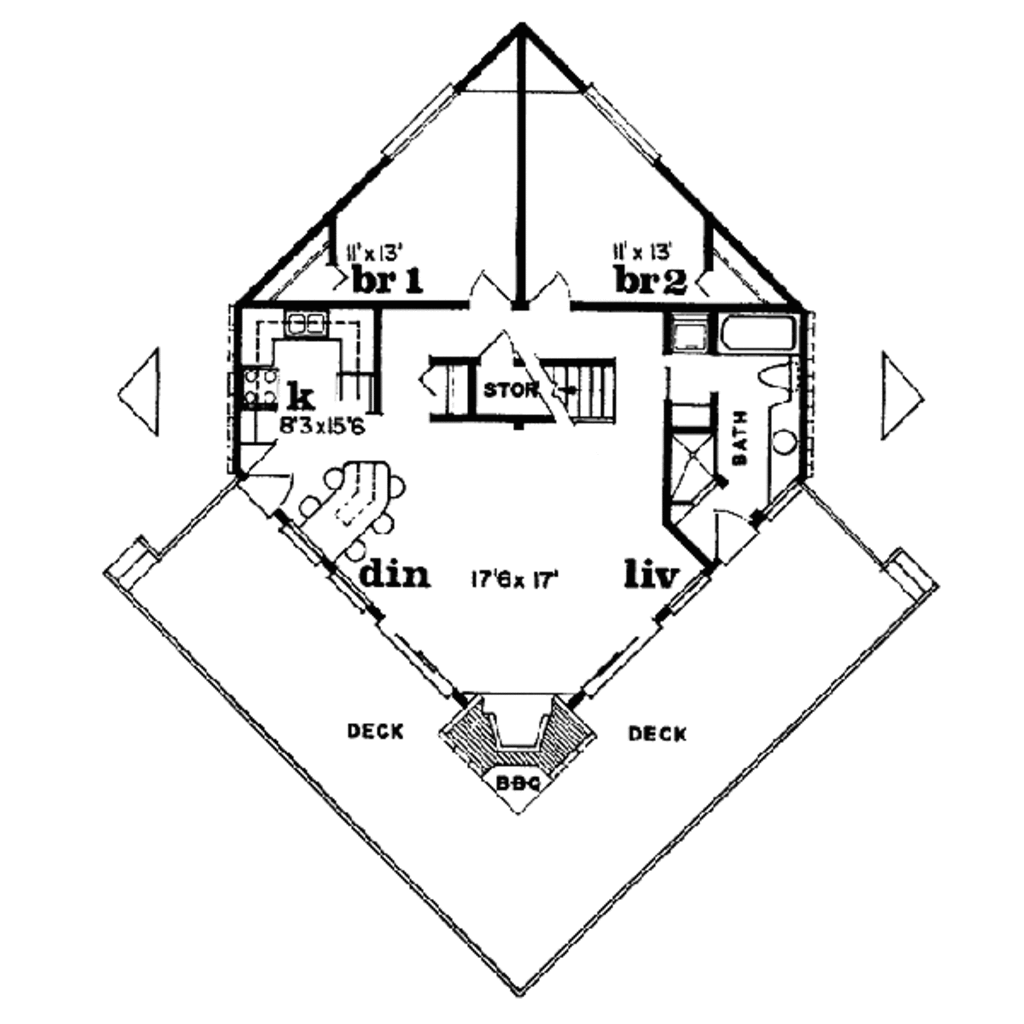door: (698, 500, 752, 566), (520, 263, 577, 314), (242, 468, 301, 514), (463, 265, 514, 316), (231, 436, 274, 471)
large_sink: (752, 354, 814, 397)
small_sink: (768, 422, 803, 474)
stairs: (439, 349, 620, 438)
tub: (720, 319, 799, 351)
twin_sink: (280, 314, 336, 355)
window: (323, 560, 468, 697), (584, 576, 731, 685), (580, 70, 668, 176), (371, 74, 465, 155)
